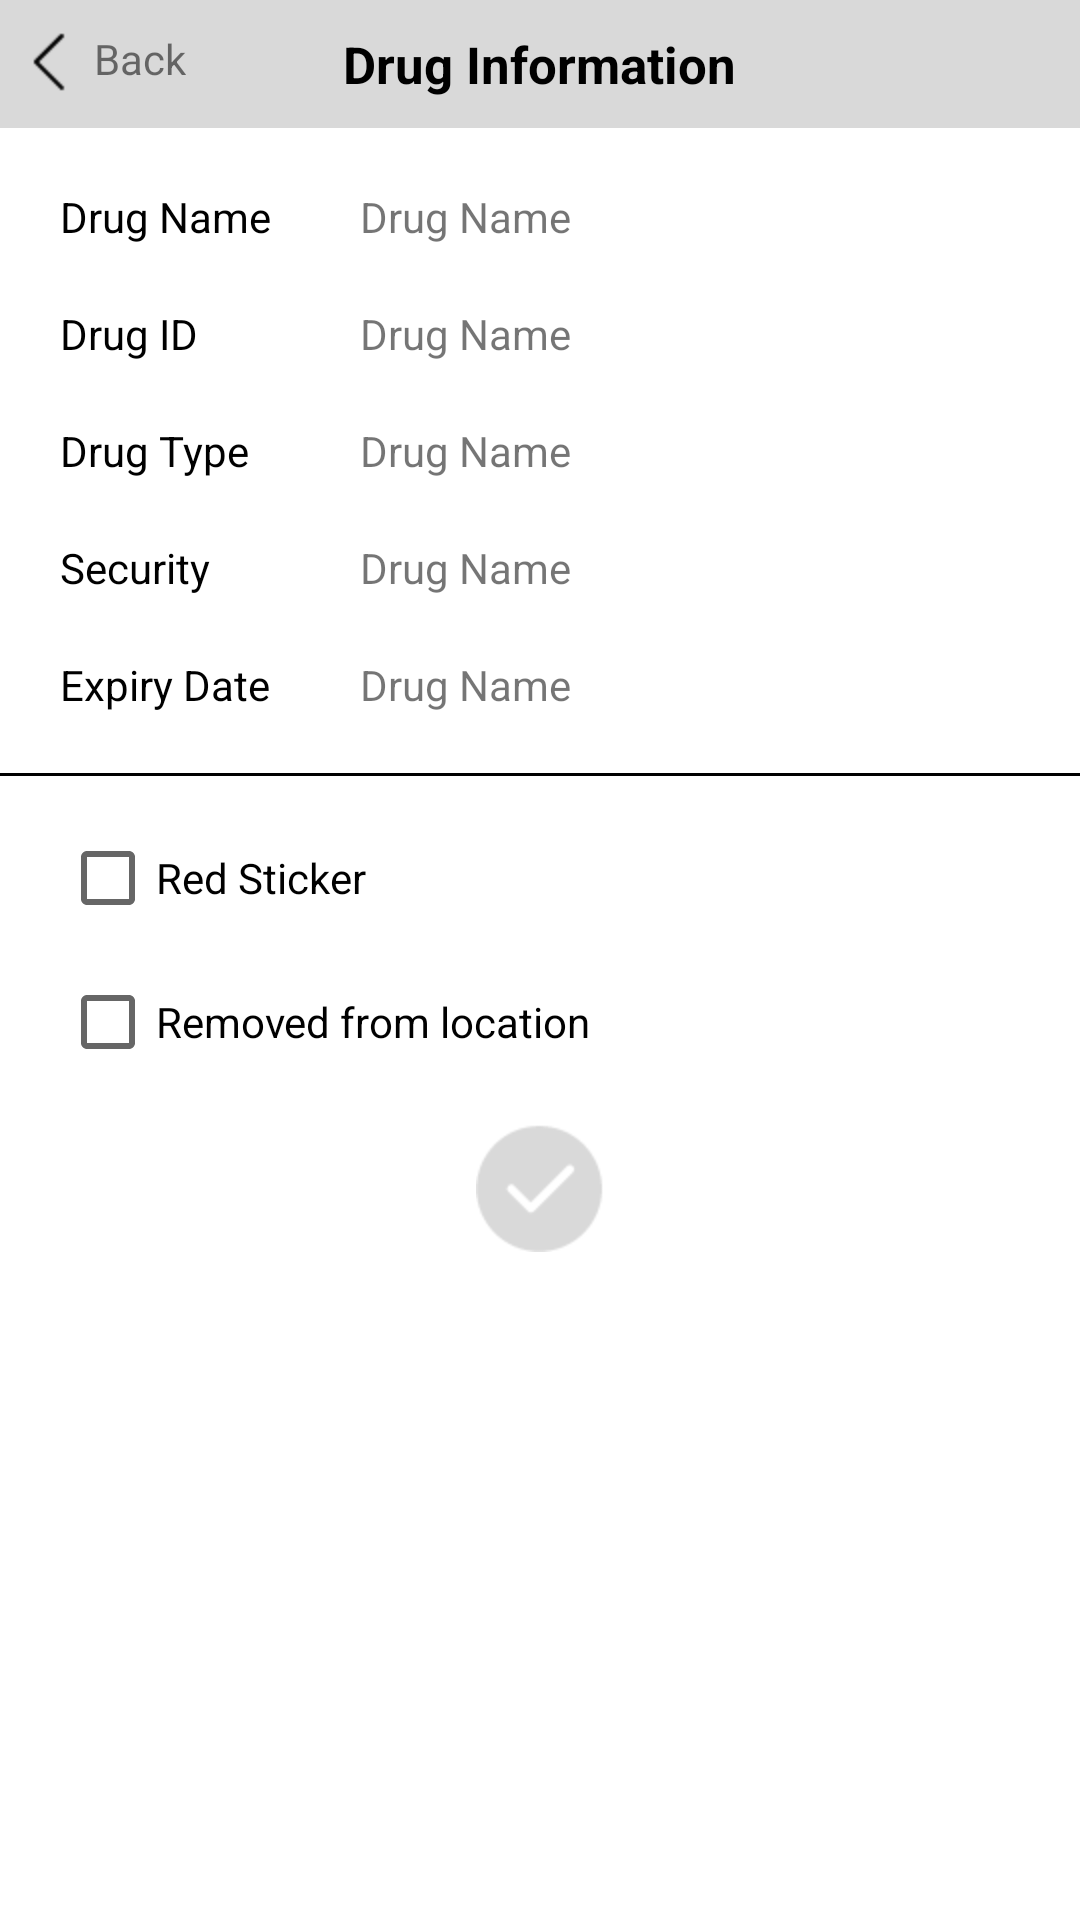

Icons on this 1080w x 1920h Android screen, each with the point to tap as [x,y]:
gou: [539,1189]
